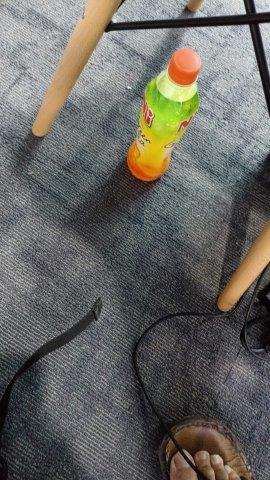botolplastik: (127, 49, 201, 182)
